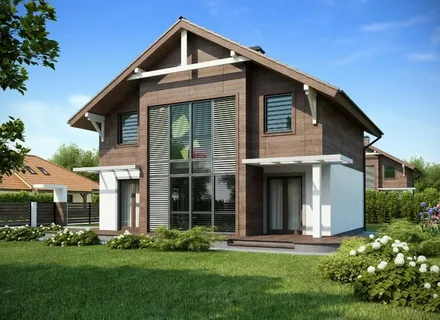private_hause: (96, 20, 370, 243)
